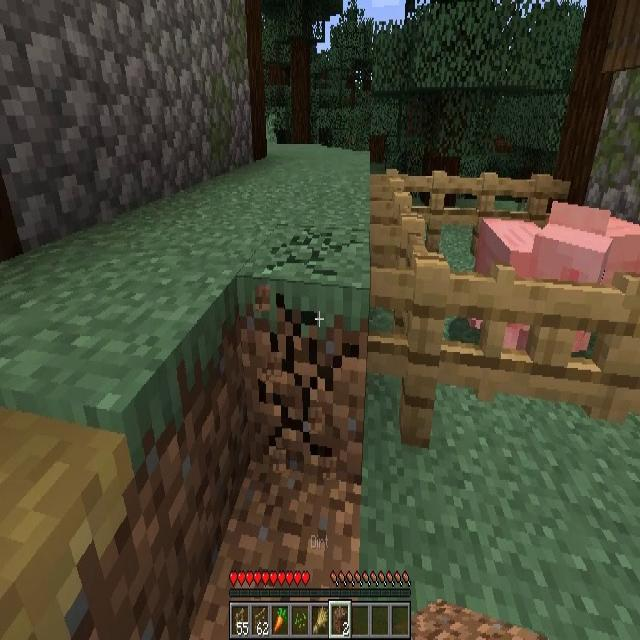pig: (474, 223, 613, 365), (548, 200, 639, 286)
